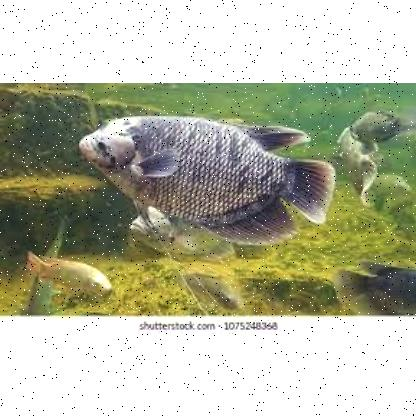gurame: (78, 112, 330, 244)
